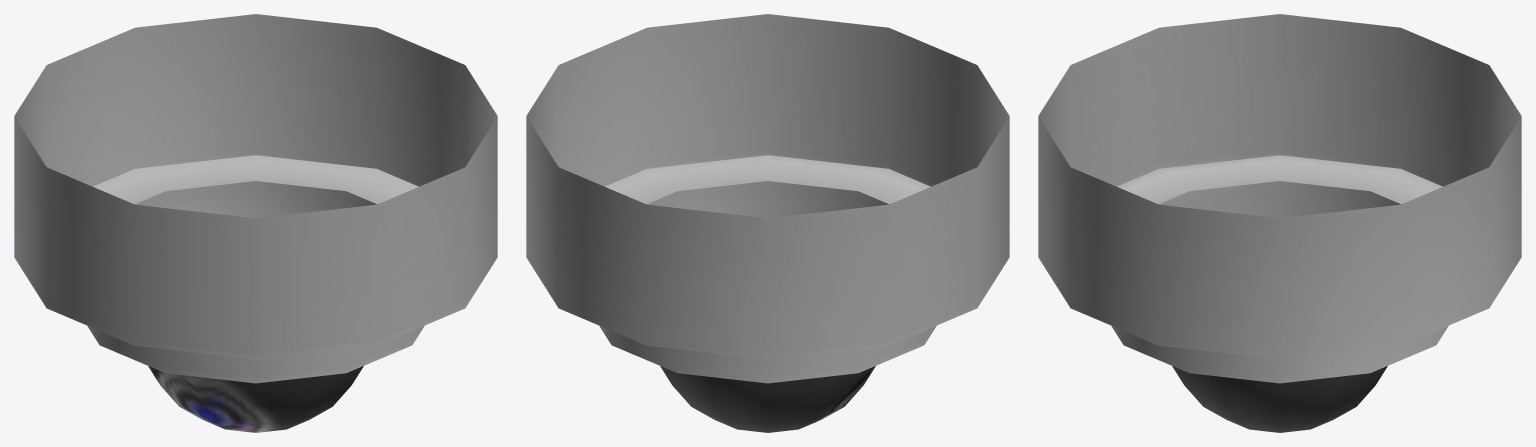
File: BianLiDian_01_jiankong_01.FBX
3 views of the same model, side by side, from view 1: azimuth 30°, elevation 25°; view 2: azimuth 150°, elevation 25°; view 3: azimuth 270°, elevation 25° (orthographic).
Parts seen in each view (by area): view 1: BianLiDian_01_jiankong_01; view 2: BianLiDian_01_jiankong_01; view 3: BianLiDian_01_jiankong_01.
Part boxes in pixels (<box>): BianLiDian_01_jiankong_01: <box>14,14,497,432</box>; BianLiDian_01_jiankong_01: <box>526,14,1009,432</box>; BianLiDian_01_jiankong_01: <box>1038,14,1521,432</box>.
Size of the model in its own units: 88.79 by 61.46 by 88.79.
